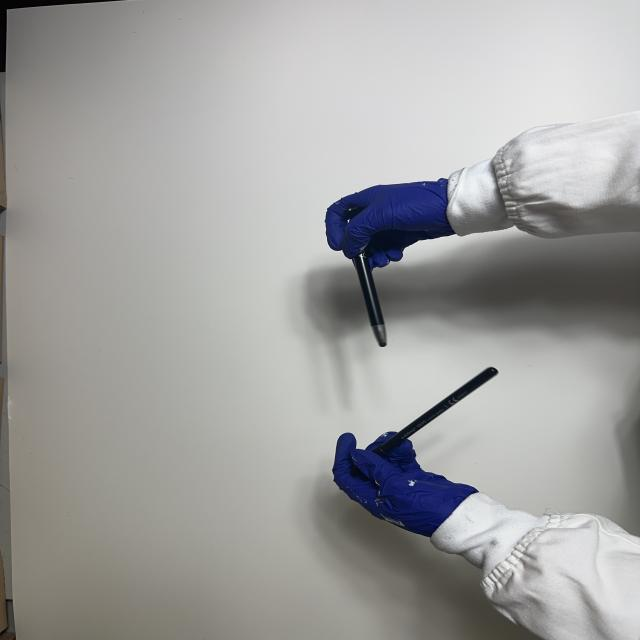gloves_contaminated: (333, 433, 478, 537), (325, 179, 454, 268)
